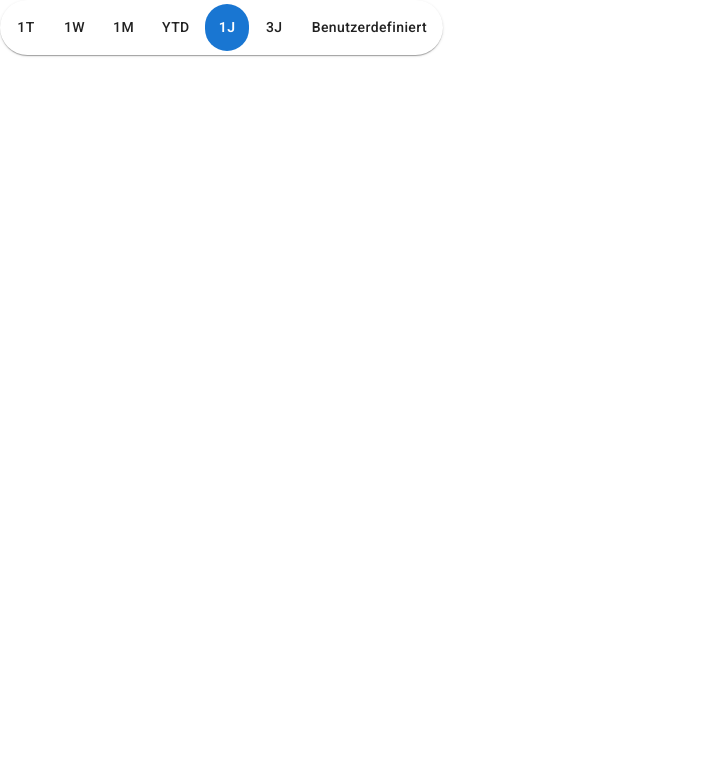
Scenario: PeriodSelector › shows the session message without refreshing when unauthorized
Click the button "1M" at (123, 27), box [100,4,146,50]
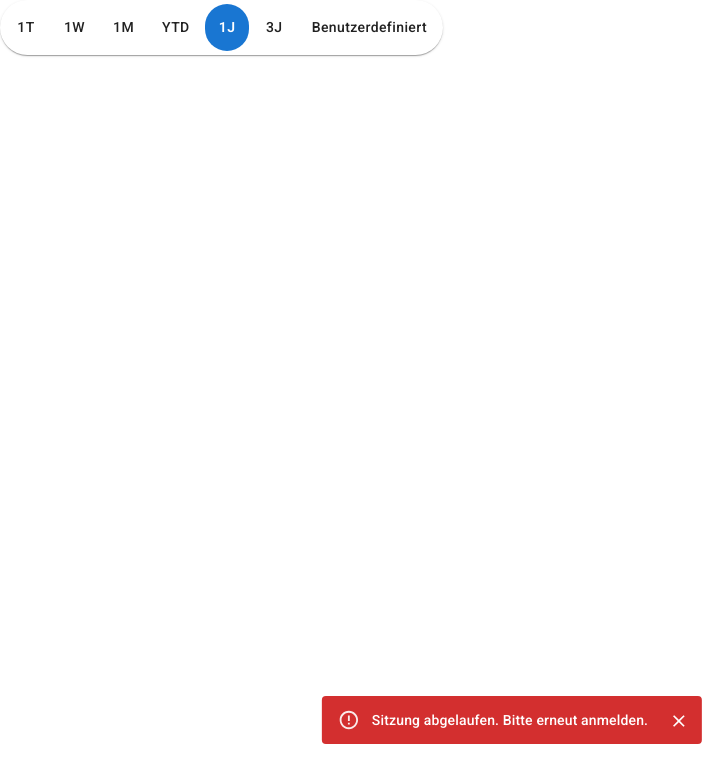
Now the message reads "Sitzung abgelaufen. Bitte erneut anmelden.", box [372,712,648,728]
